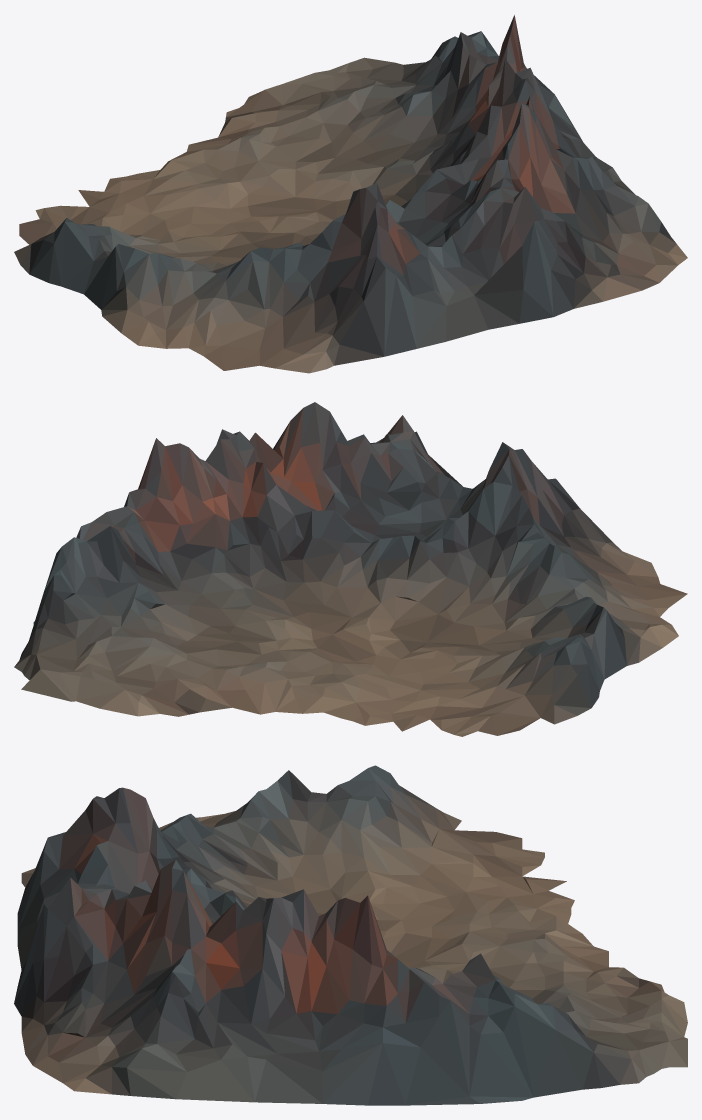
File: Volcanic_H.fbx
The picture shows the model from 3 angles, top to bottom: view 1: azimuth 30°, elevation 25°; view 2: azimuth 150°, elevation 25°; view 3: azimuth 270°, elevation 25°; orthographic projection. The views are drawn at different scales.
Visible parts, largest first — view 1: Volcanic_H; view 2: Volcanic_H; view 3: Volcanic_H.
Part boxes in pixels (left/top/right/bottom): Volcanic_H: left=14, top=15, right=687, bottom=373; Volcanic_H: left=14, top=402, right=687, bottom=736; Volcanic_H: left=14, top=765, right=687, bottom=1105.
Bounding box in the file's own units: 9150 × 2548 × 8950.
